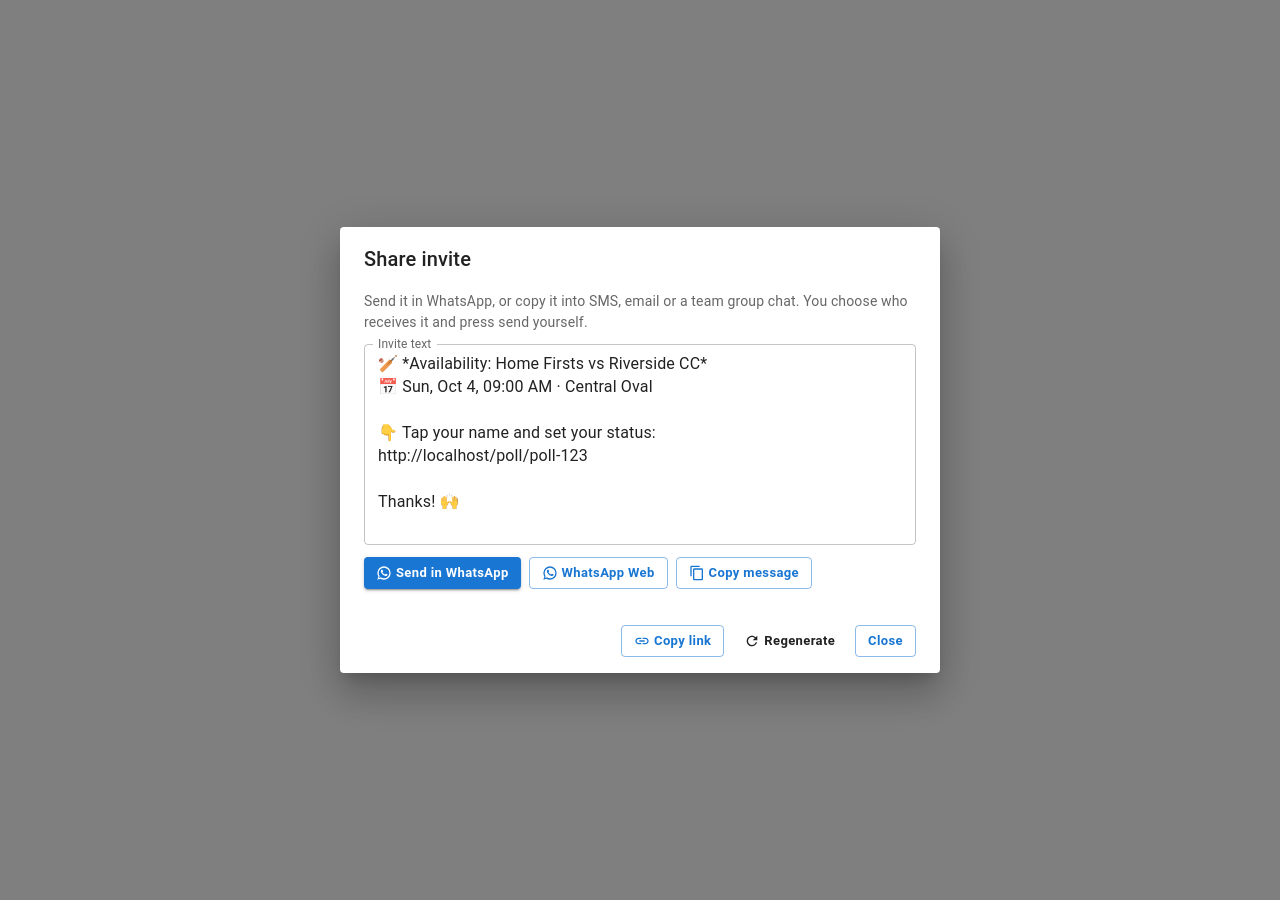
Scenario: PollShareDialog › copy to clipboard › Copy message copies the full text as shown and the button briefly reads Copied
The width and height of the screenshot is (1280, 900).
Step 1. Click the button "Copy message" → [744, 572], box left=676, top=556, right=812, bottom=588
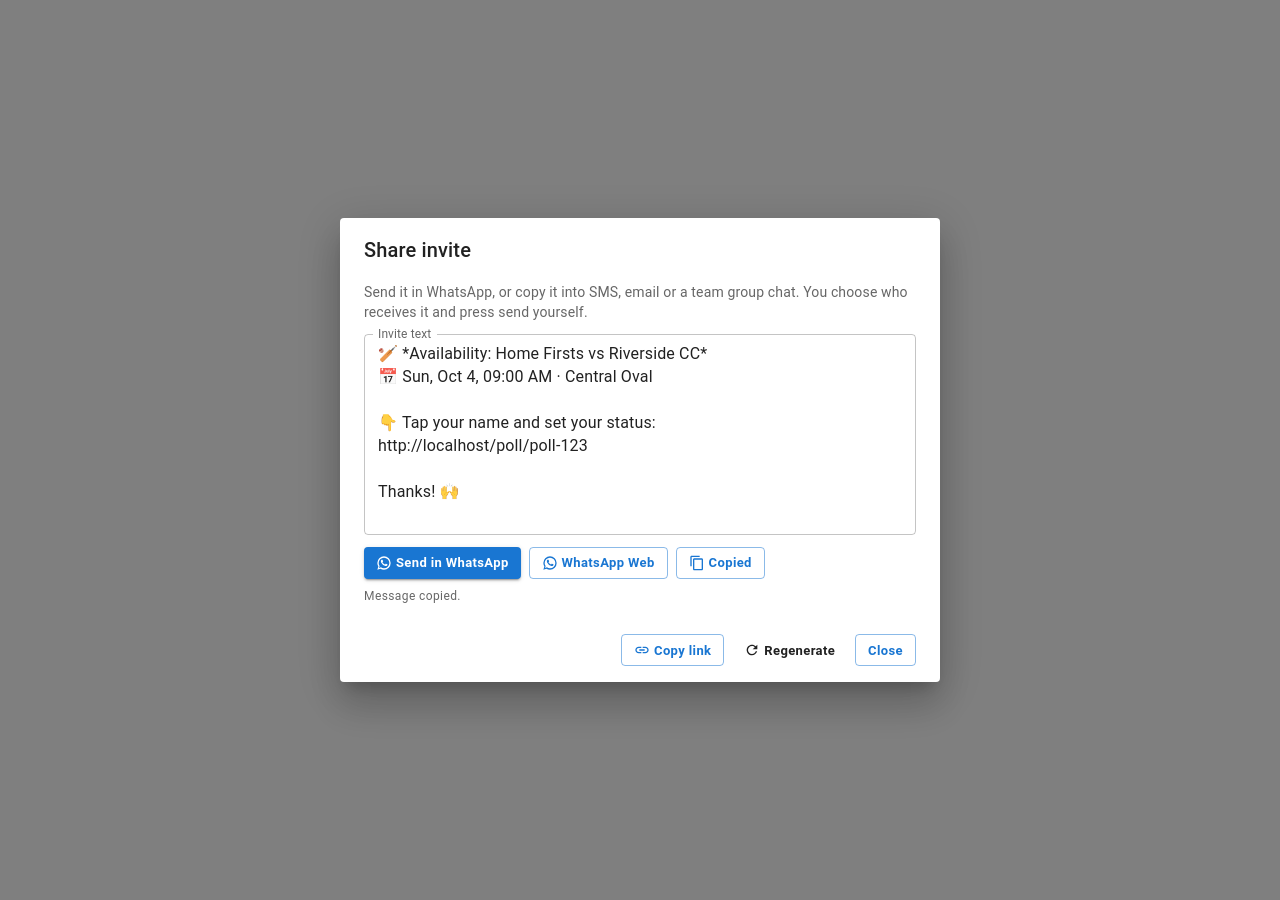
Now the button "Copied" is shown, box left=676, top=547, right=765, bottom=579
Now the message reads "Message copied.", box left=364, top=589, right=461, bottom=603
